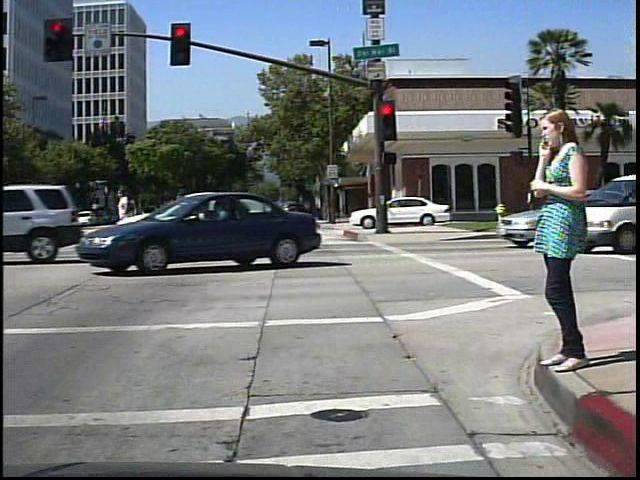person: (527, 99, 592, 383)
